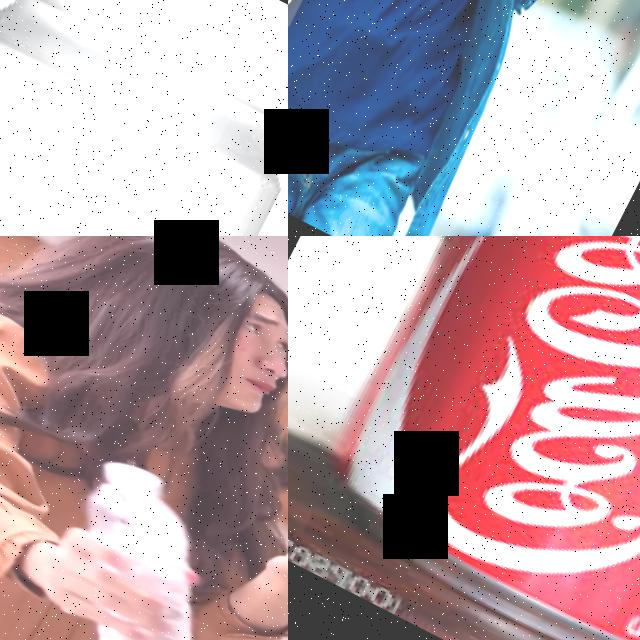bottle: (18, 449, 267, 640)
can: (293, 236, 640, 640), (0, 0, 288, 236)
